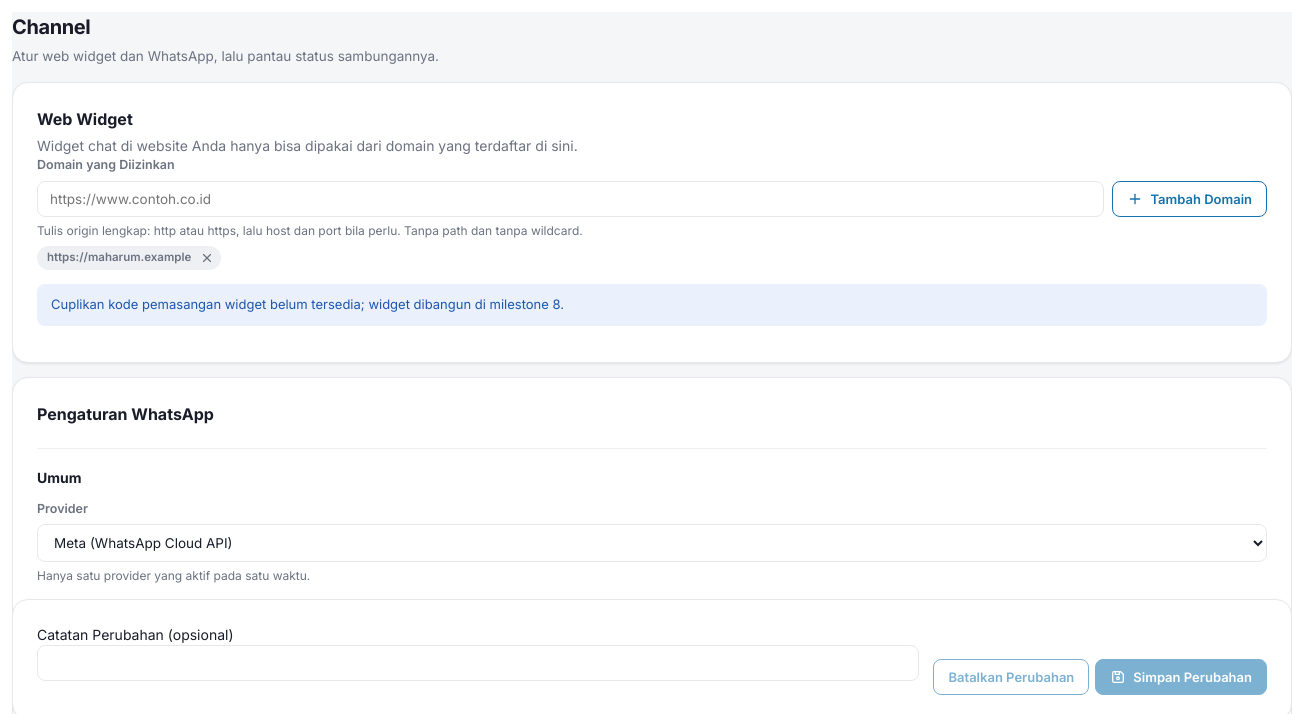
Test case: Halaman Channel: pengaturan › menolak origin ganda dan bisa menghapus origin
Check: the heading "Web Widget" is shown, box [37,109,133,129]
In the field labelled "Domain yang Diizinkan": (571, 199) [37,181,1104,217], type "https://maharum.example"
Then press Enter
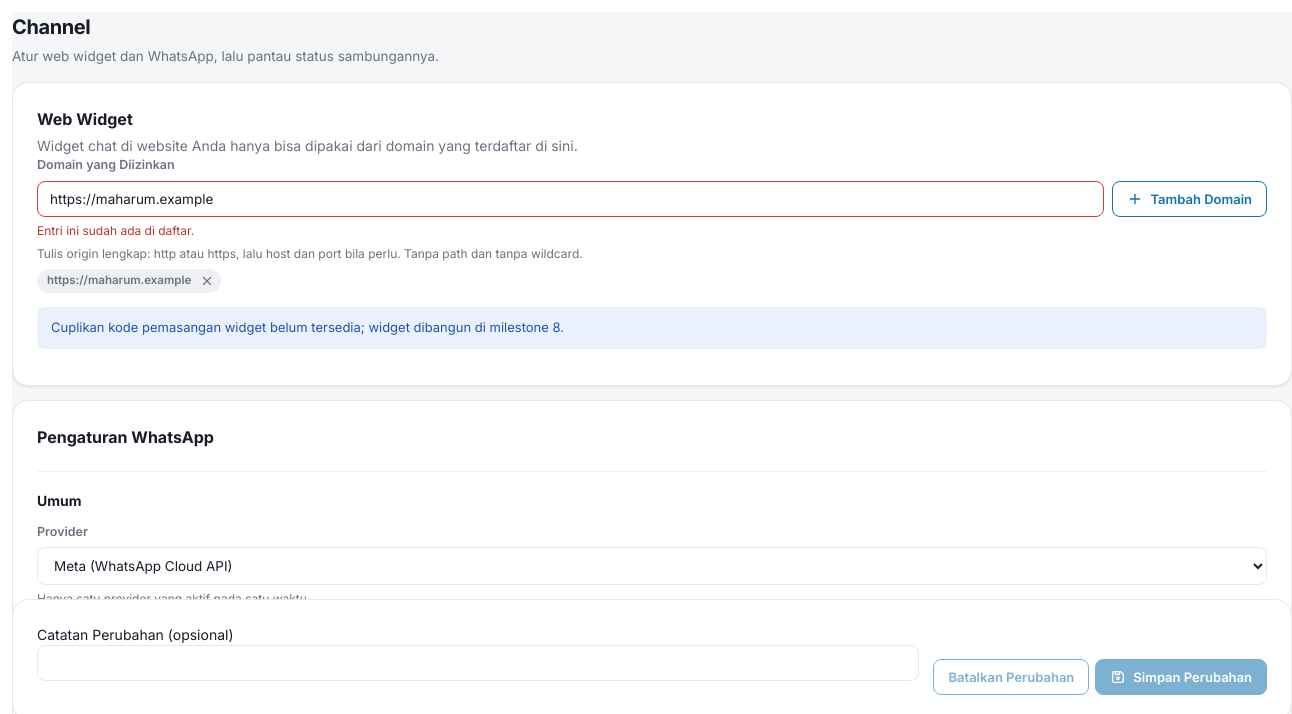
Check: the text "Entri ini sudah ada di daftar." is shown, box [37,223,194,238]
Click the button named "Hapus https://maharum.example": click(207, 281) [197,271,217,291]
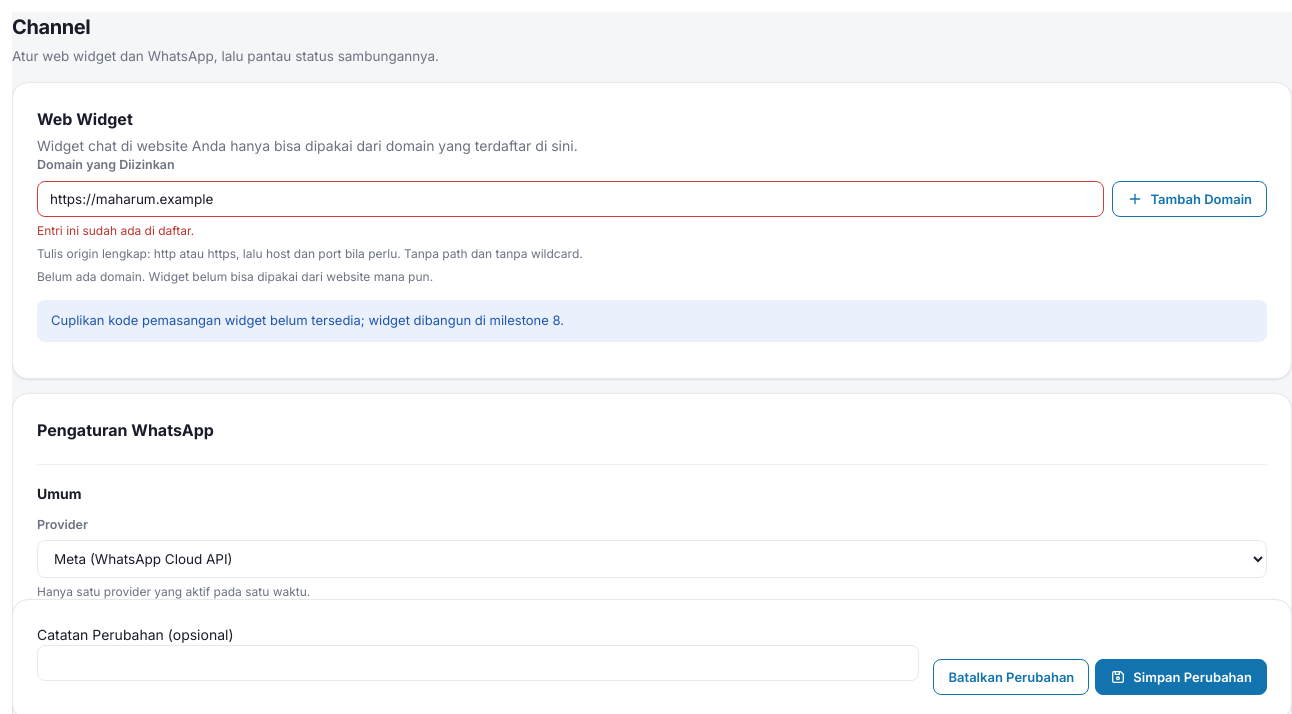
Check: the button "Simpan Perubahan" is enabled, box [1095,659,1267,695]
